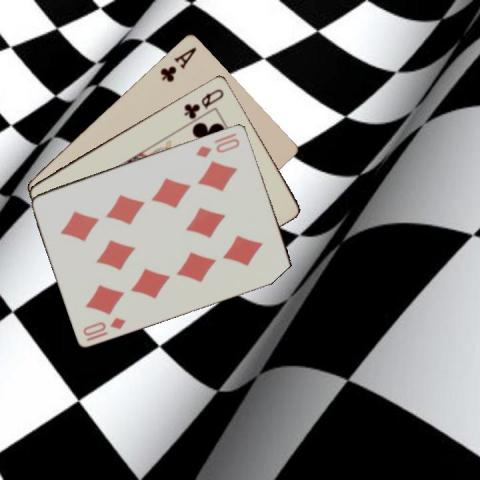10d: (193, 134, 241, 159), (80, 314, 127, 338)
Ac: (157, 44, 198, 84)
Qc: (181, 85, 225, 120)
